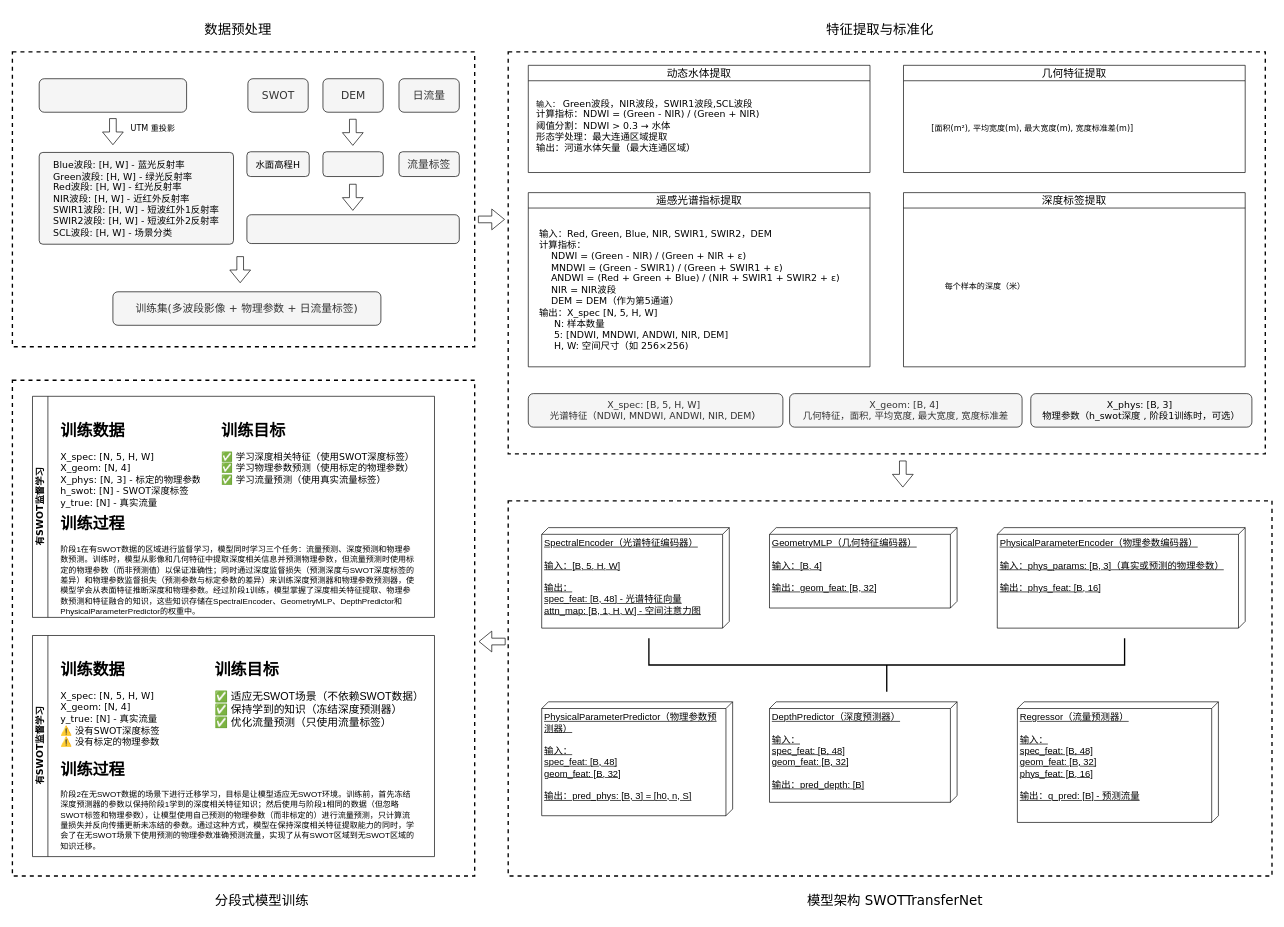
This 1284x927 diagram has some shape labels left out. Here are the shapes that lost their labels. From the top down, the centre of each, then its label:
pixel 113 95: 多光谱时序遥感
pixel 352 164: 地形高程
pixel 352 229: h0( 不可见河床深度 ),n(曼宁系数),s(河道坡度)
